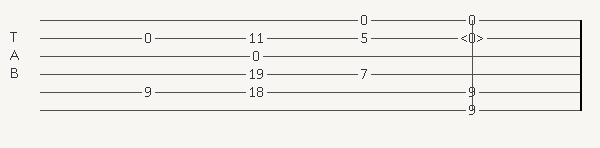0: (144, 31, 156, 45), (252, 49, 264, 63), (360, 13, 372, 27), (468, 13, 480, 27)
11: (248, 31, 268, 45)
18: (248, 85, 268, 99)
19: (248, 67, 268, 81)
5: (360, 31, 372, 45)
7: (360, 67, 372, 81)
9: (144, 85, 156, 99), (468, 85, 480, 99), (468, 103, 480, 117)
harmonic: (460, 31, 488, 45)
